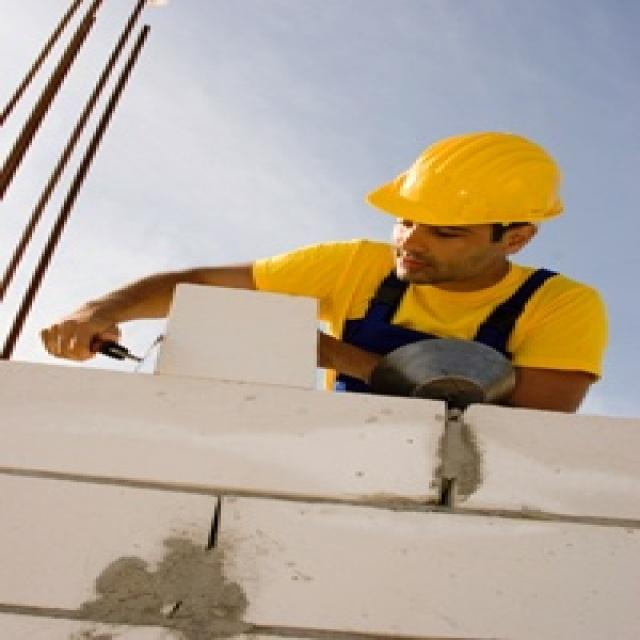helmet: (387, 171, 563, 376)
